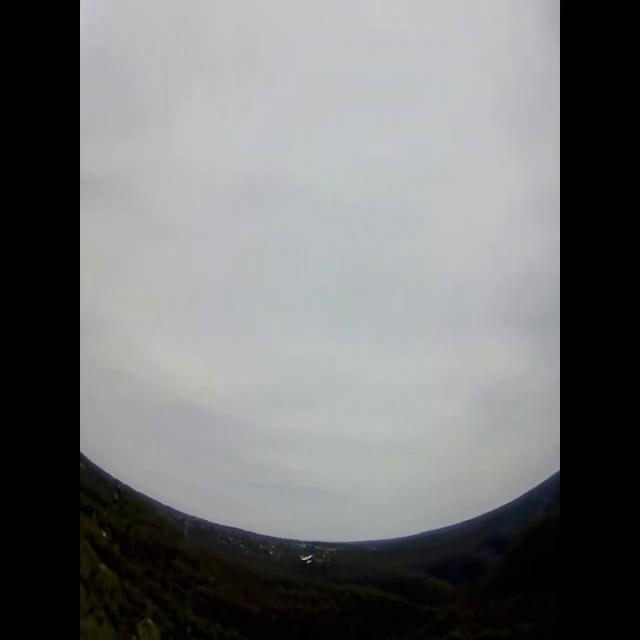iha: (304, 552, 310, 565)
